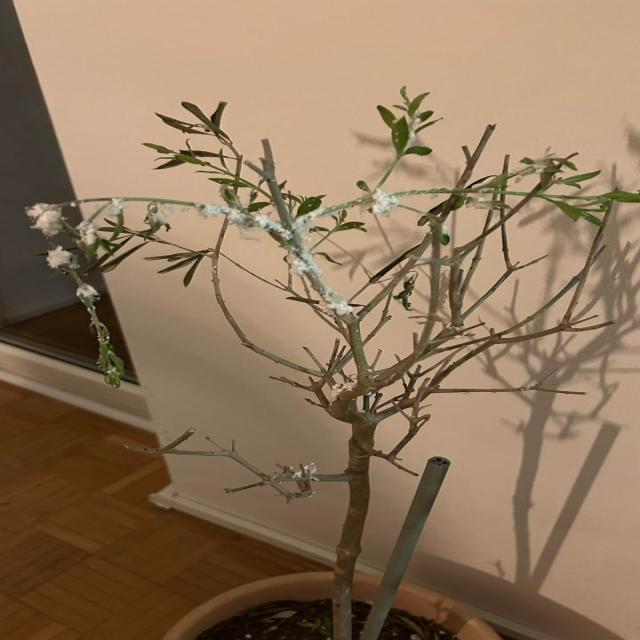Psyllid: (26, 203, 136, 388), (293, 176, 495, 232), (270, 228, 361, 316), (155, 200, 287, 239), (76, 198, 125, 249), (283, 463, 317, 498)
